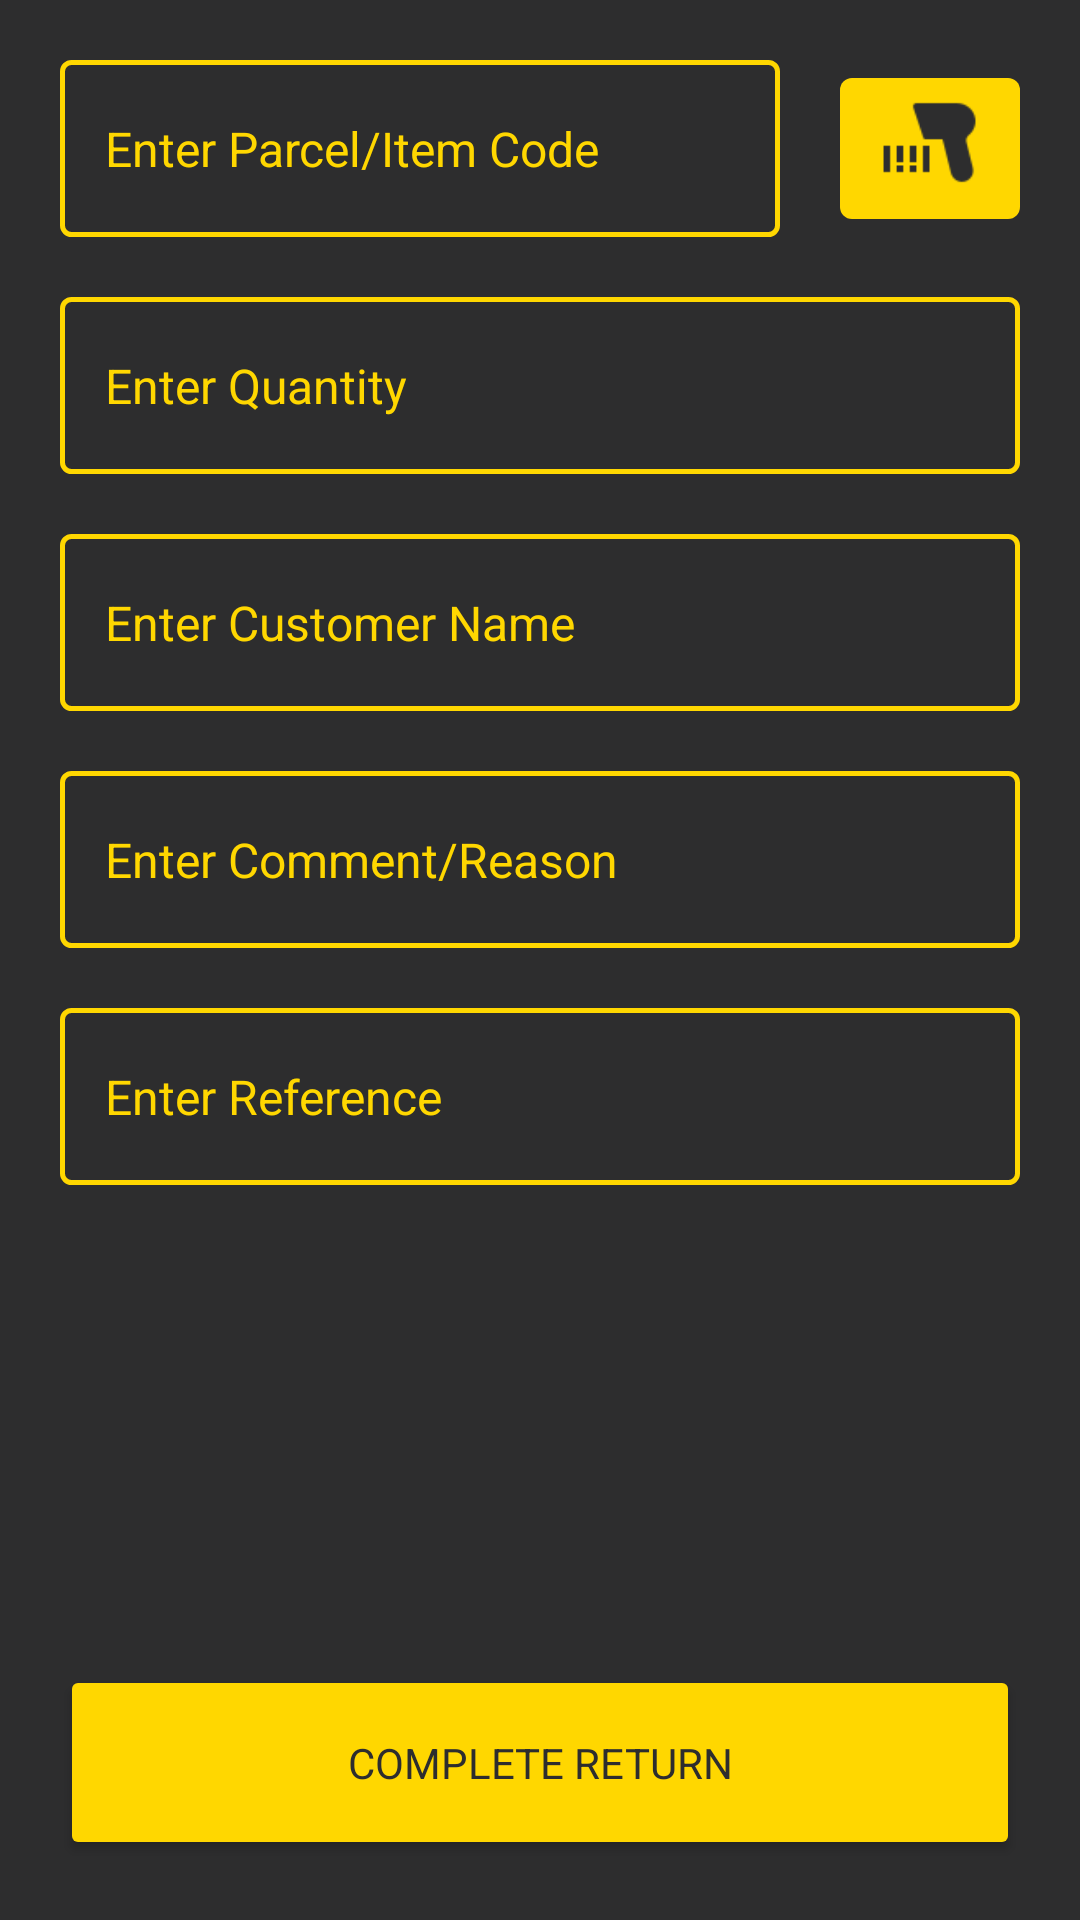

Point at icon controls on the screen. Image size 1080px x 1920px, points as (x,y).
barcode: (930,148)
